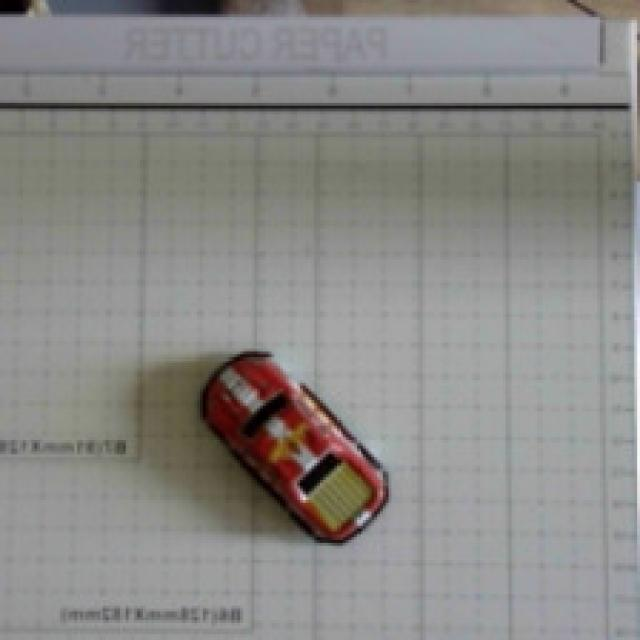Red Car: (140, 300, 455, 599)
